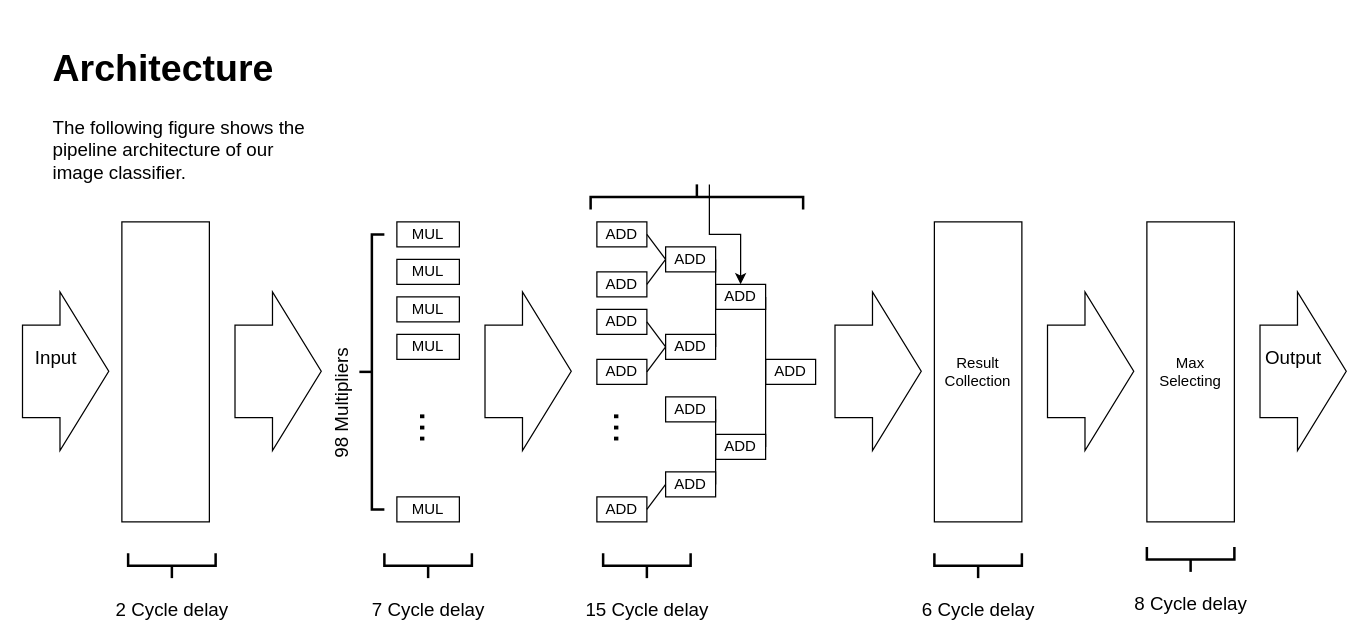
This 1368x643 diagram has some shape labels left out. The centre of each missing label's shape, as x and y in pixels:
7-Level Adder Tree: point (696, 196)
Input Buffer: point (165, 371)
